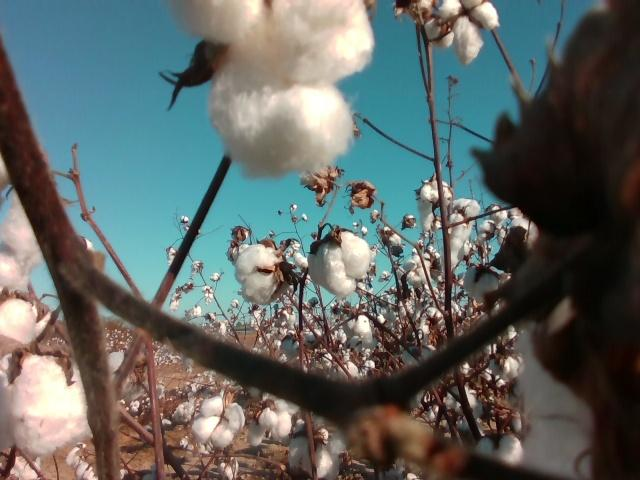cotton_ready: (172, 0, 376, 180), (515, 326, 607, 480), (0, 352, 96, 455), (0, 192, 49, 353), (425, 0, 501, 61), (307, 229, 372, 296), (286, 429, 350, 480), (443, 197, 482, 271), (190, 397, 246, 447), (234, 246, 280, 306), (257, 394, 301, 439), (418, 179, 451, 236), (466, 269, 509, 305)
